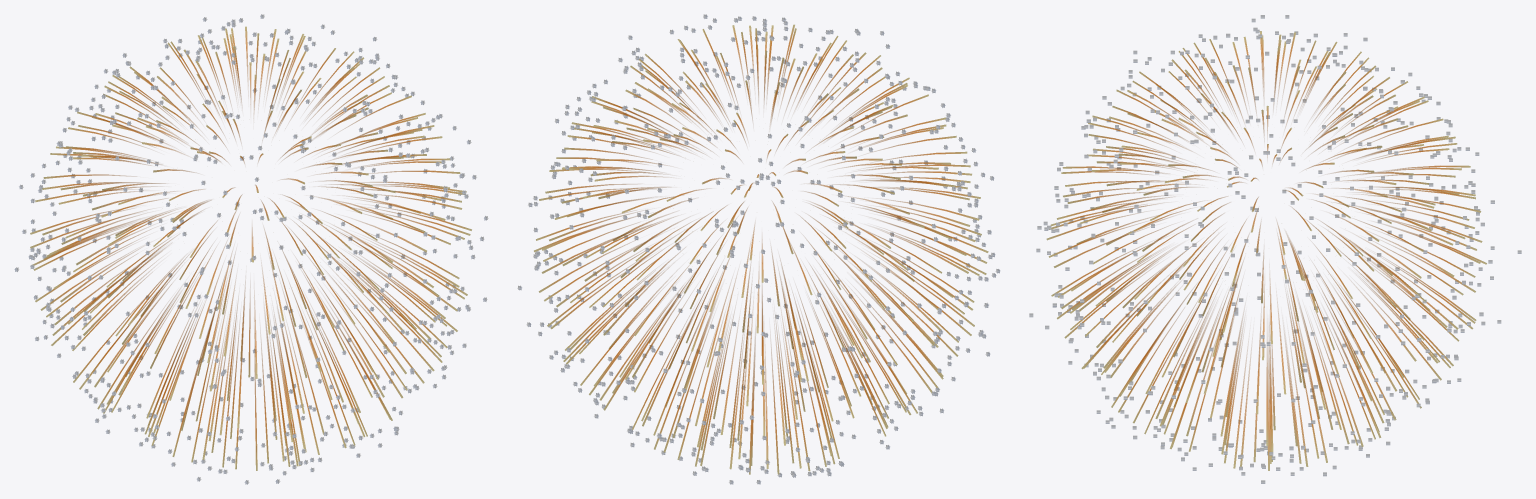
File: fw_chrys_gold_silver_b.glb
3 renders of one model, left to right at view 1: azimuth 30°, elevation 25°; view 2: azimuth 150°, elevation 25°; view 3: azimuth 270°, elevation 25°, orthographic. The views are drawn at different scales.
Visible parts, largest first — view 1: spire; view 2: spire; view 3: spire.
Boxes of the visible parts, bbox=[...] form: spire: bbox=[14, 14, 488, 484]; spire: bbox=[517, 14, 1000, 484]; spire: bbox=[1029, 15, 1521, 483].
Bounding box in the file's own units: 25.48 × 25.57 × 26.34.
2 materials, 2 textured.
